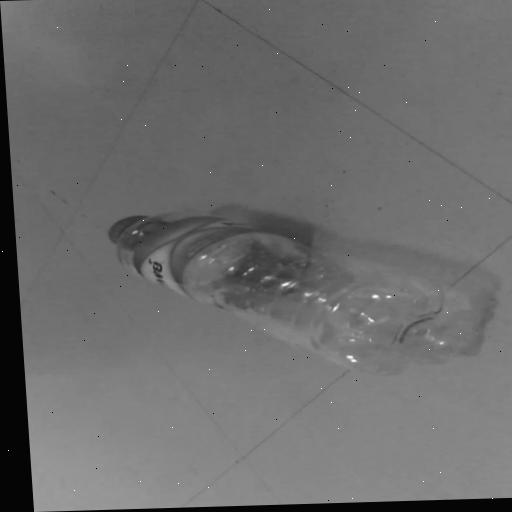bottle: (108, 203, 498, 384)
